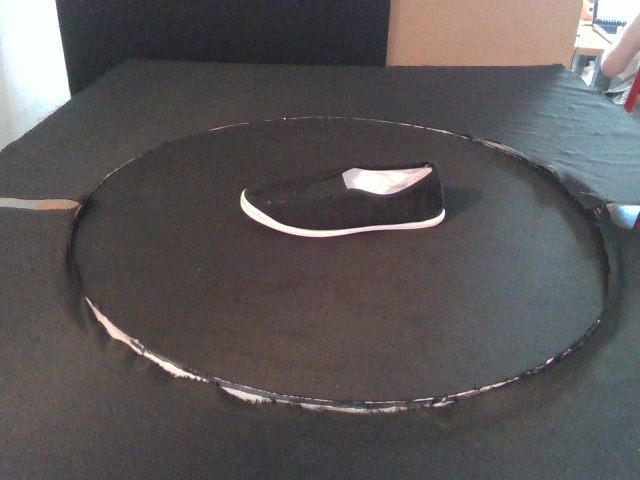shoe: (239, 158, 446, 239)
